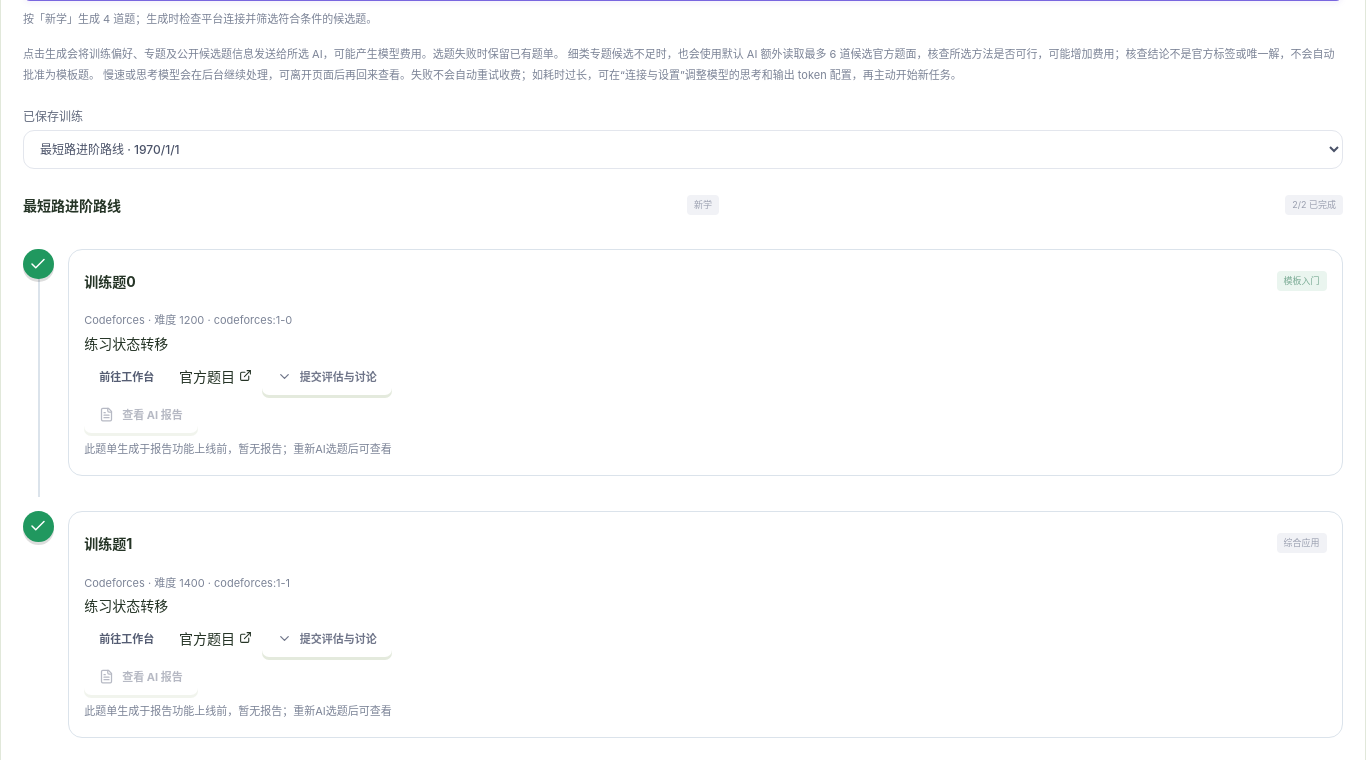
Test: explains missing source and incomplete AC instead of reading editor drafts
(page scrolled)
Click the button "提交评估与讨论" below "难度 1200": (327, 376) [262, 357, 392, 395]
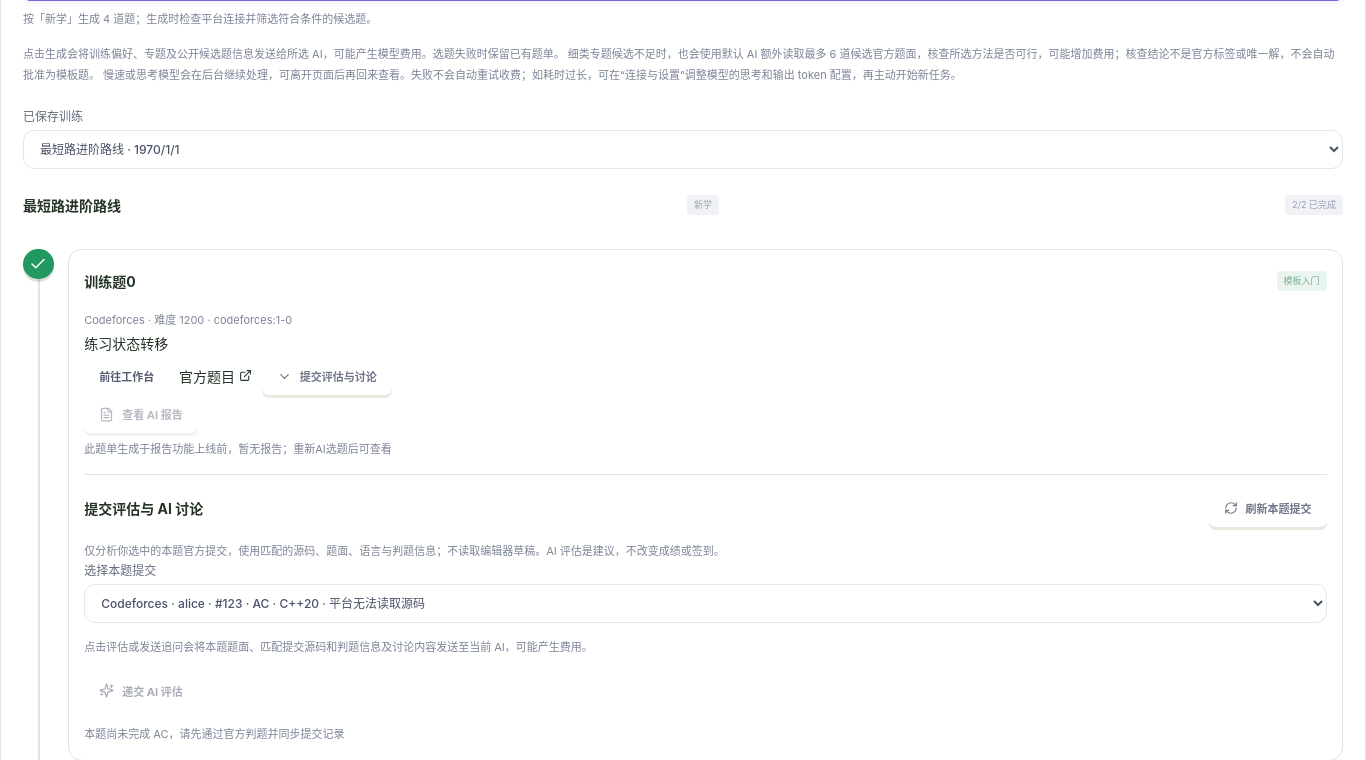
Now the button "递交 AI 评估" is disabled, box [84, 672, 198, 710]
Now the text "本题尚未完成 AC" is shown, box [84, 727, 344, 741]
Click the button "提交评估与讨论": (327, 376) [262, 357, 392, 395]
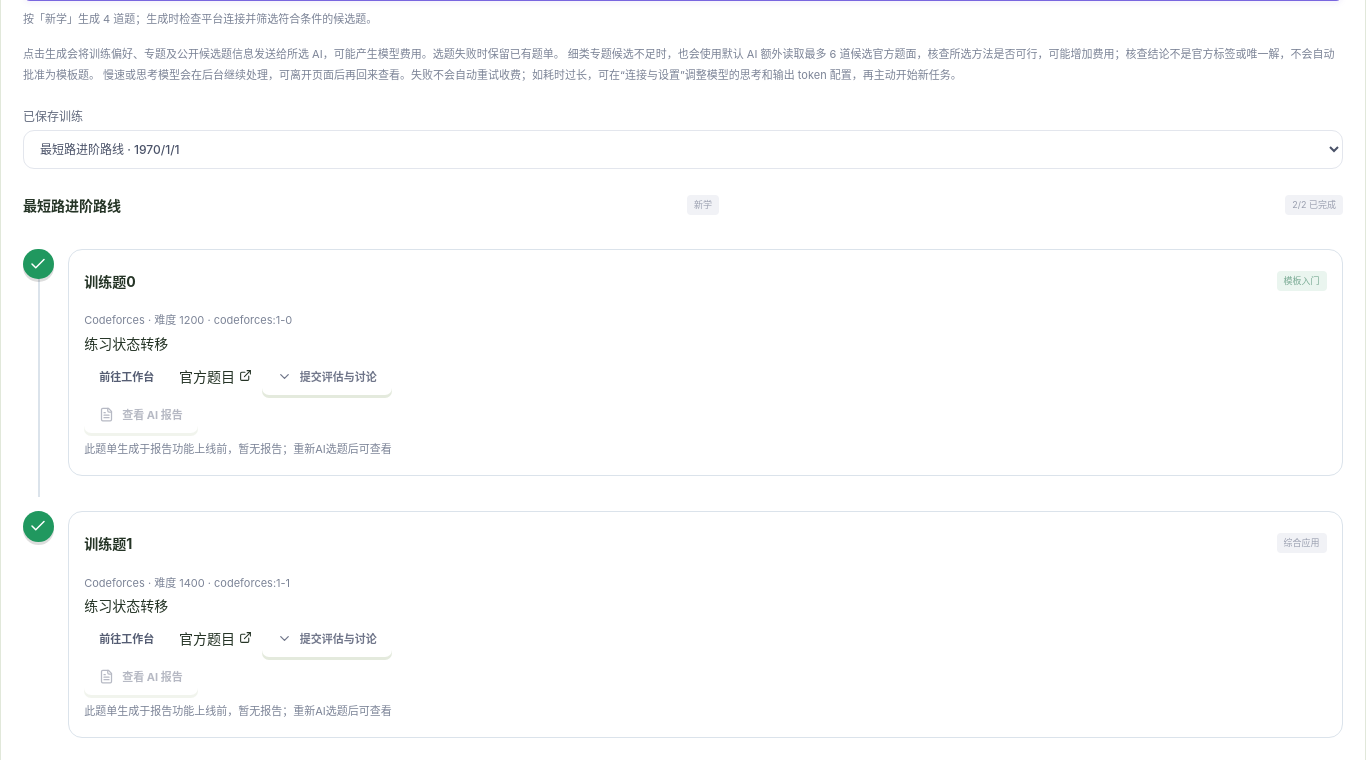
Click the button "提交评估与讨论" below "难度 1200": (327, 376) [262, 357, 392, 395]
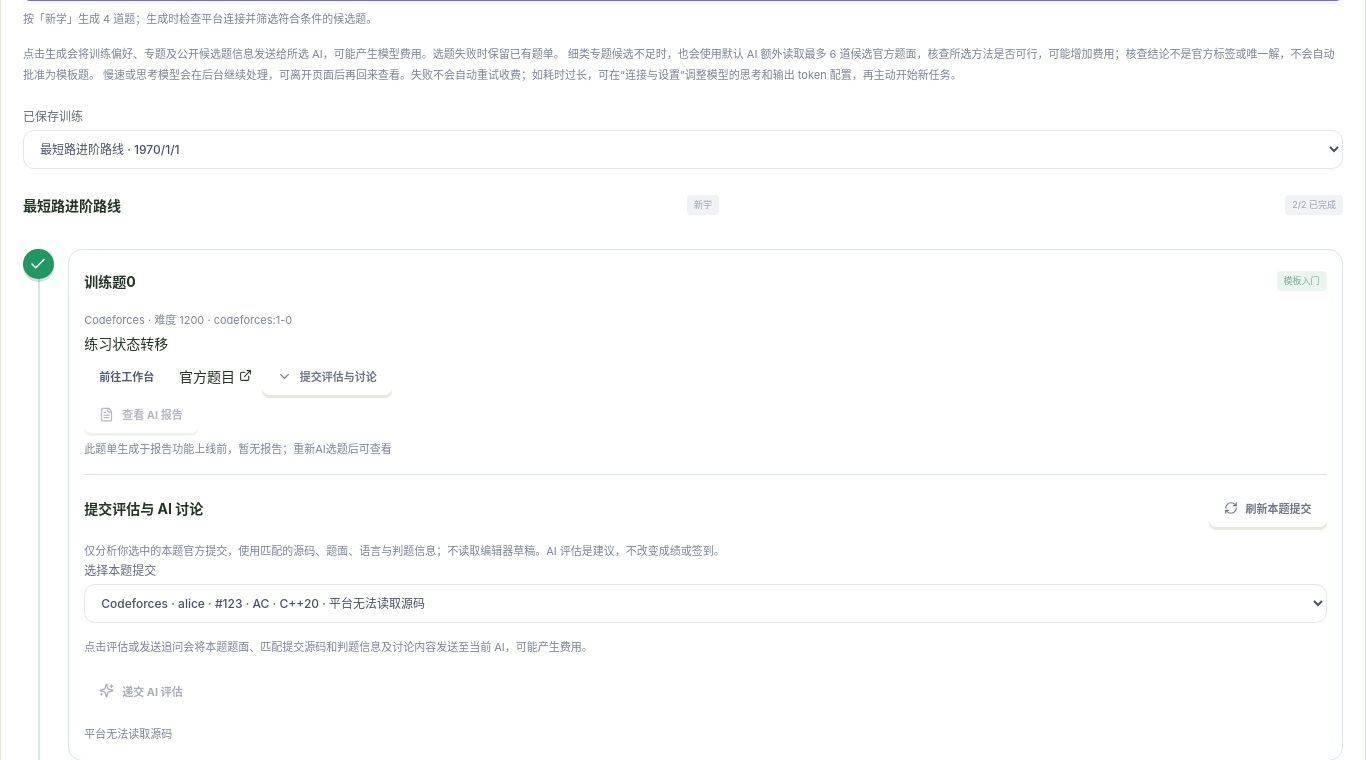
Now the text "平台无法读取源码" is shown, box [84, 727, 172, 741]
Now the button "递交 AI 评估" is disabled, box [84, 672, 198, 710]
